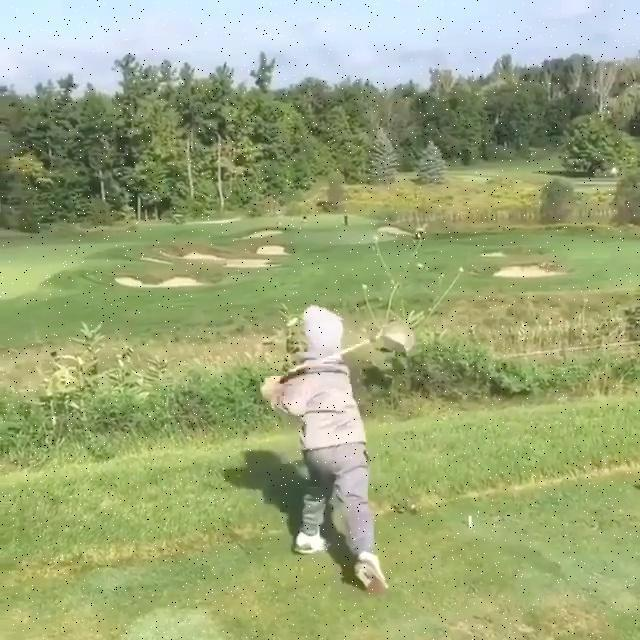ClubHead: (381, 323, 416, 354)
